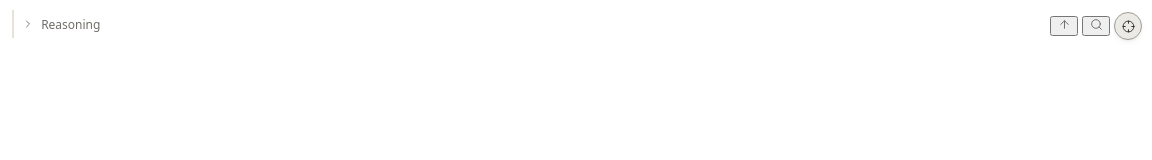
the transcript’s find bar › unfolds folded reasoning when a hit lands inside it
Step 1. Click the button named "Find in this conversation" → (1096, 26), box left=1082, top=16, right=1110, bottom=36
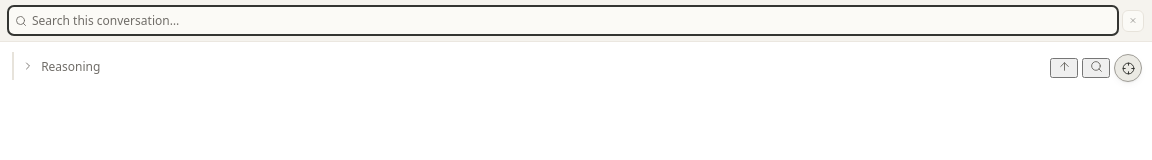
Step 2. Type "considered" into the field with placeholder "Search this conversation…" → (572, 20), box left=32, top=7, right=1111, bottom=34
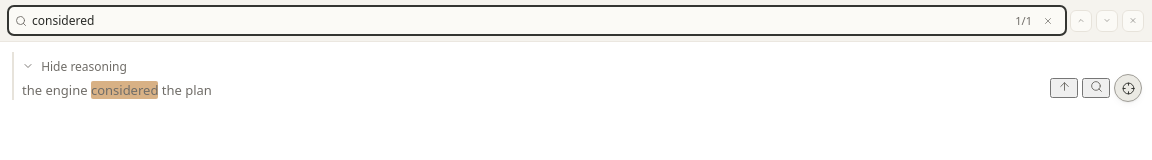
Check: the button with class "agent-thought-head" is expanded, box left=22, top=52, right=133, bottom=80
Check: the text "considered" is shown, box left=91, top=81, right=158, bottom=99
